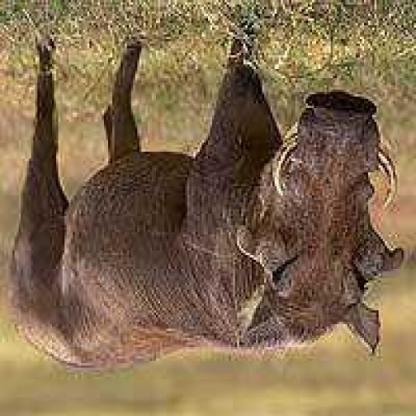boar: (40, 45, 390, 397)
